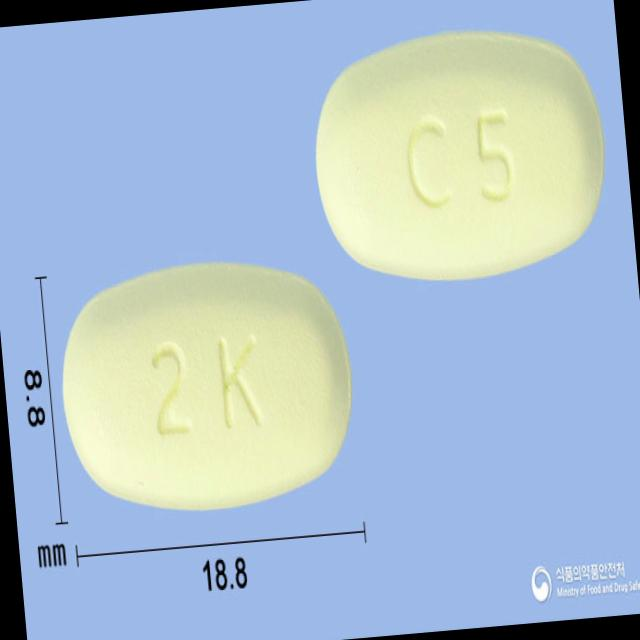Clithocin - 500mg: (301, 16, 617, 292), (51, 248, 362, 525)
